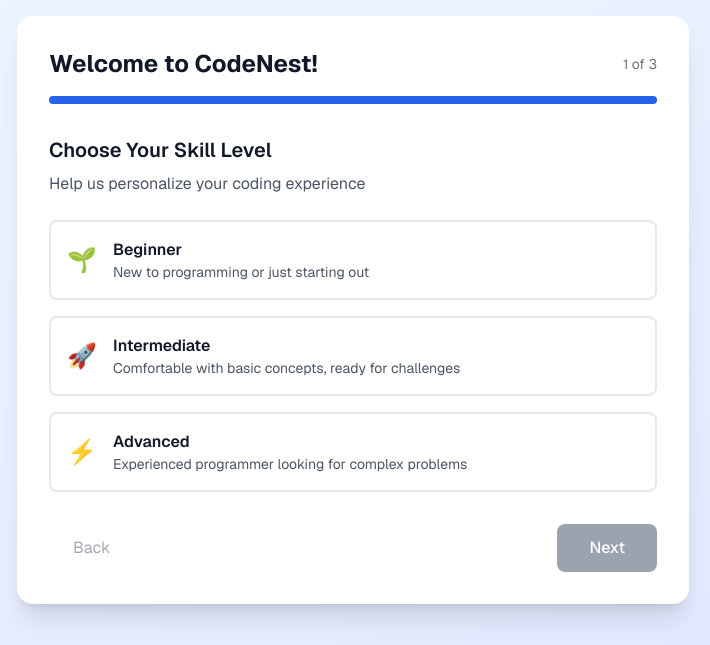
Test case: ProfileSetup › enables Next button when skill level is selected
This screenshot has width=710, height=645.
Step 1. Click the button "Beginner" → x=353, y=260, box [49,220,657,300]
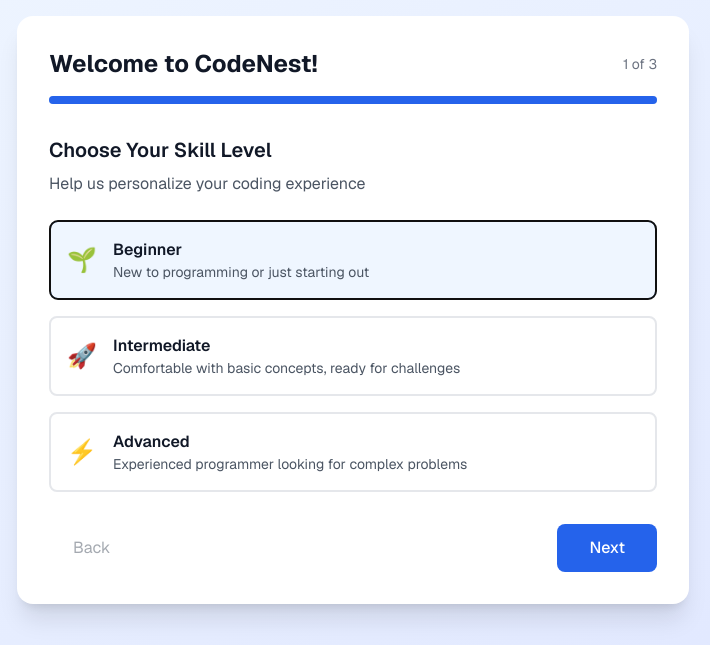
Result: the button "Next" is enabled at [557,524,657,572]
